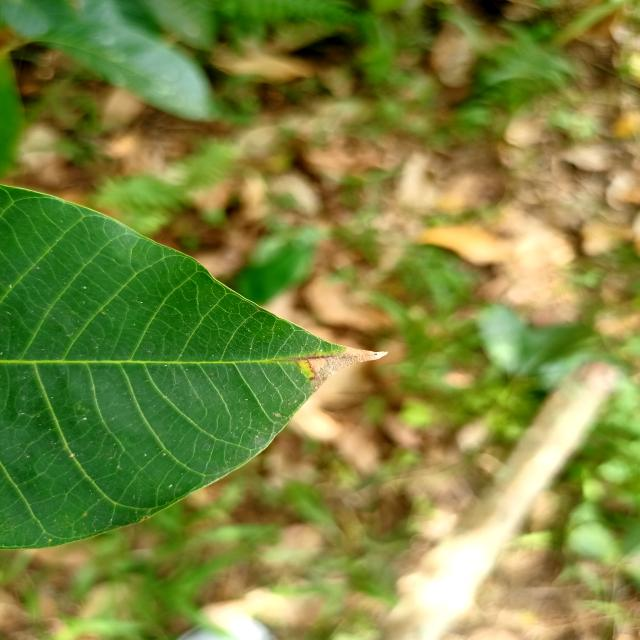Corynespora: (272, 354, 334, 380)
Leaf-Blight: (310, 346, 398, 381)
